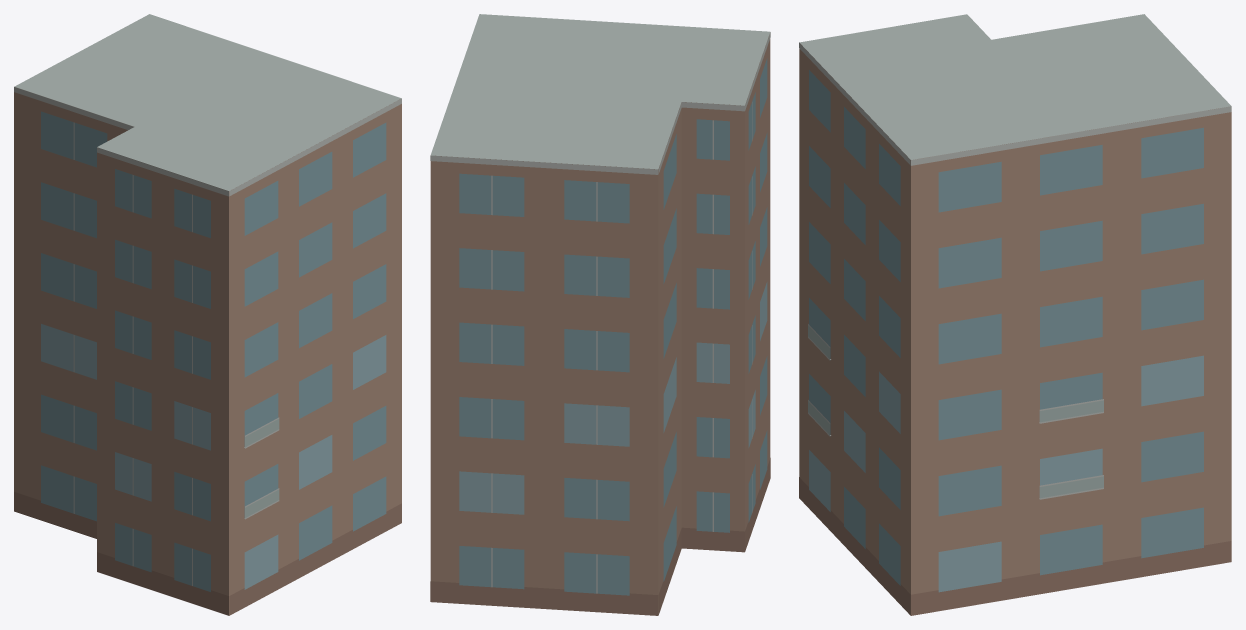
Rendered from survey-upis-32850603.glb.
3 renders of one model, left to right at view 1: azimuth 30°, elevation 25°; view 2: azimuth 150°, elevation 25°; view 3: azimuth 270°, elevation 25°, orthographic. The views are drawn at different scales.
Parts seen in each view (by area): view 1: survey-upis-32850603.tmp; view 2: survey-upis-32850603.tmp; view 3: survey-upis-32850603.tmp.
Boxes of the visible parts, x1,y1,x2,y2 form: survey-upis-32850603.tmp: (14,14,401,615); survey-upis-32850603.tmp: (430,14,770,615); survey-upis-32850603.tmp: (799,14,1231,615).
Bounding box in the file's own units: 13.24 × 19.25 × 16.56.
